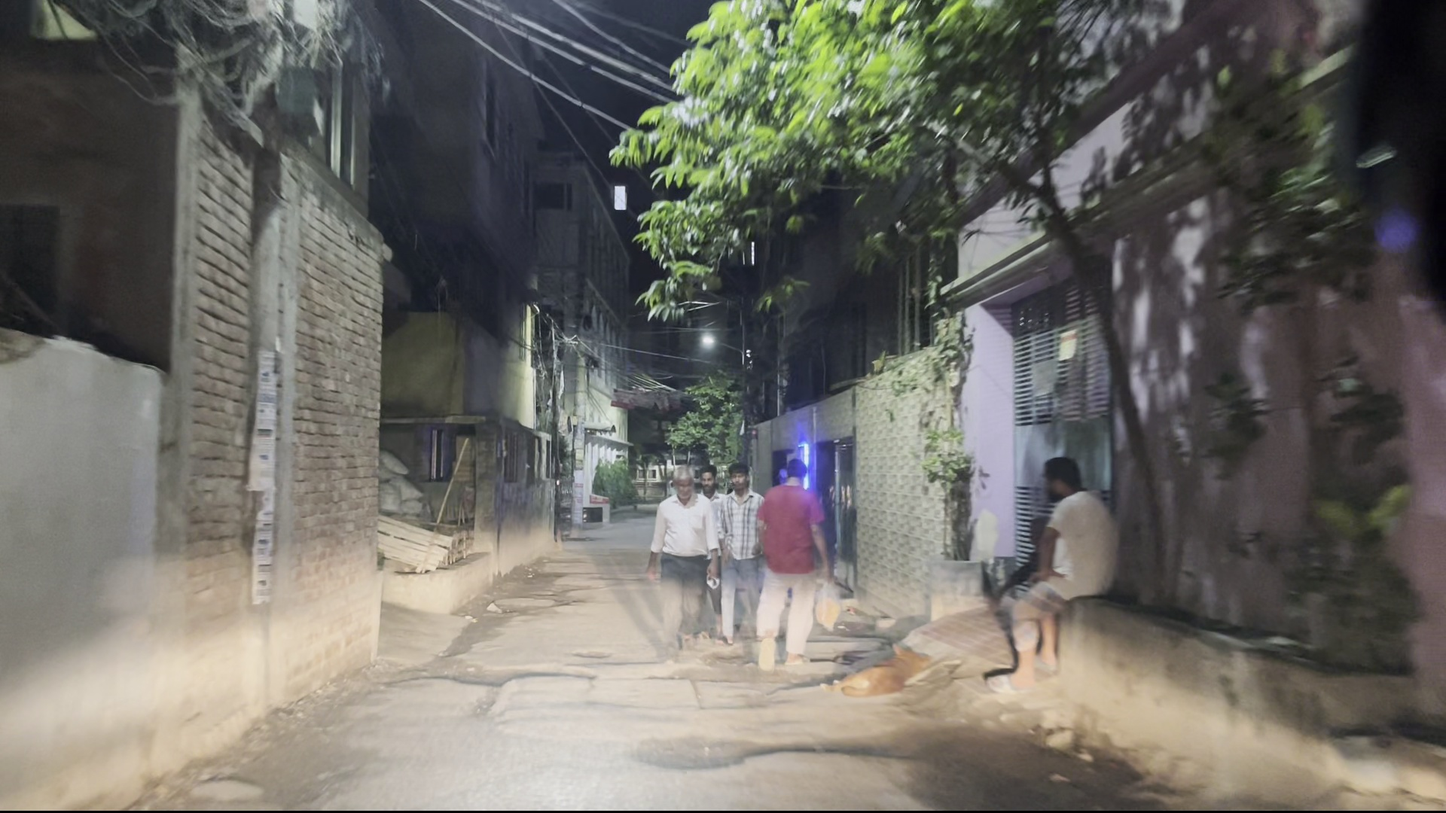person: (1027, 449, 1123, 705), (748, 466, 849, 664), (686, 470, 761, 632), (654, 449, 714, 651), (718, 453, 769, 654)
